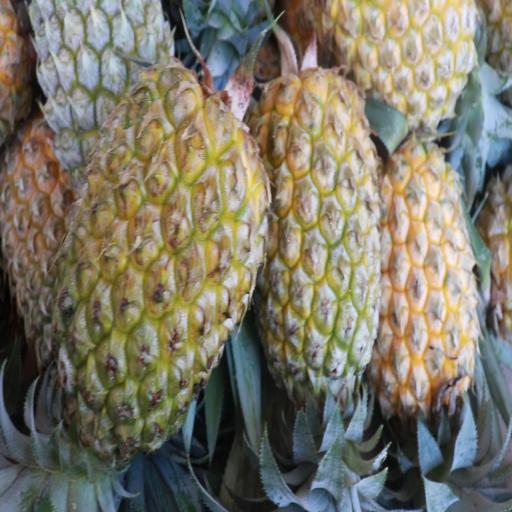Pineapple - v8 v1: (58, 80, 265, 441), (253, 71, 378, 383), (376, 135, 482, 404), (316, 0, 481, 124)
